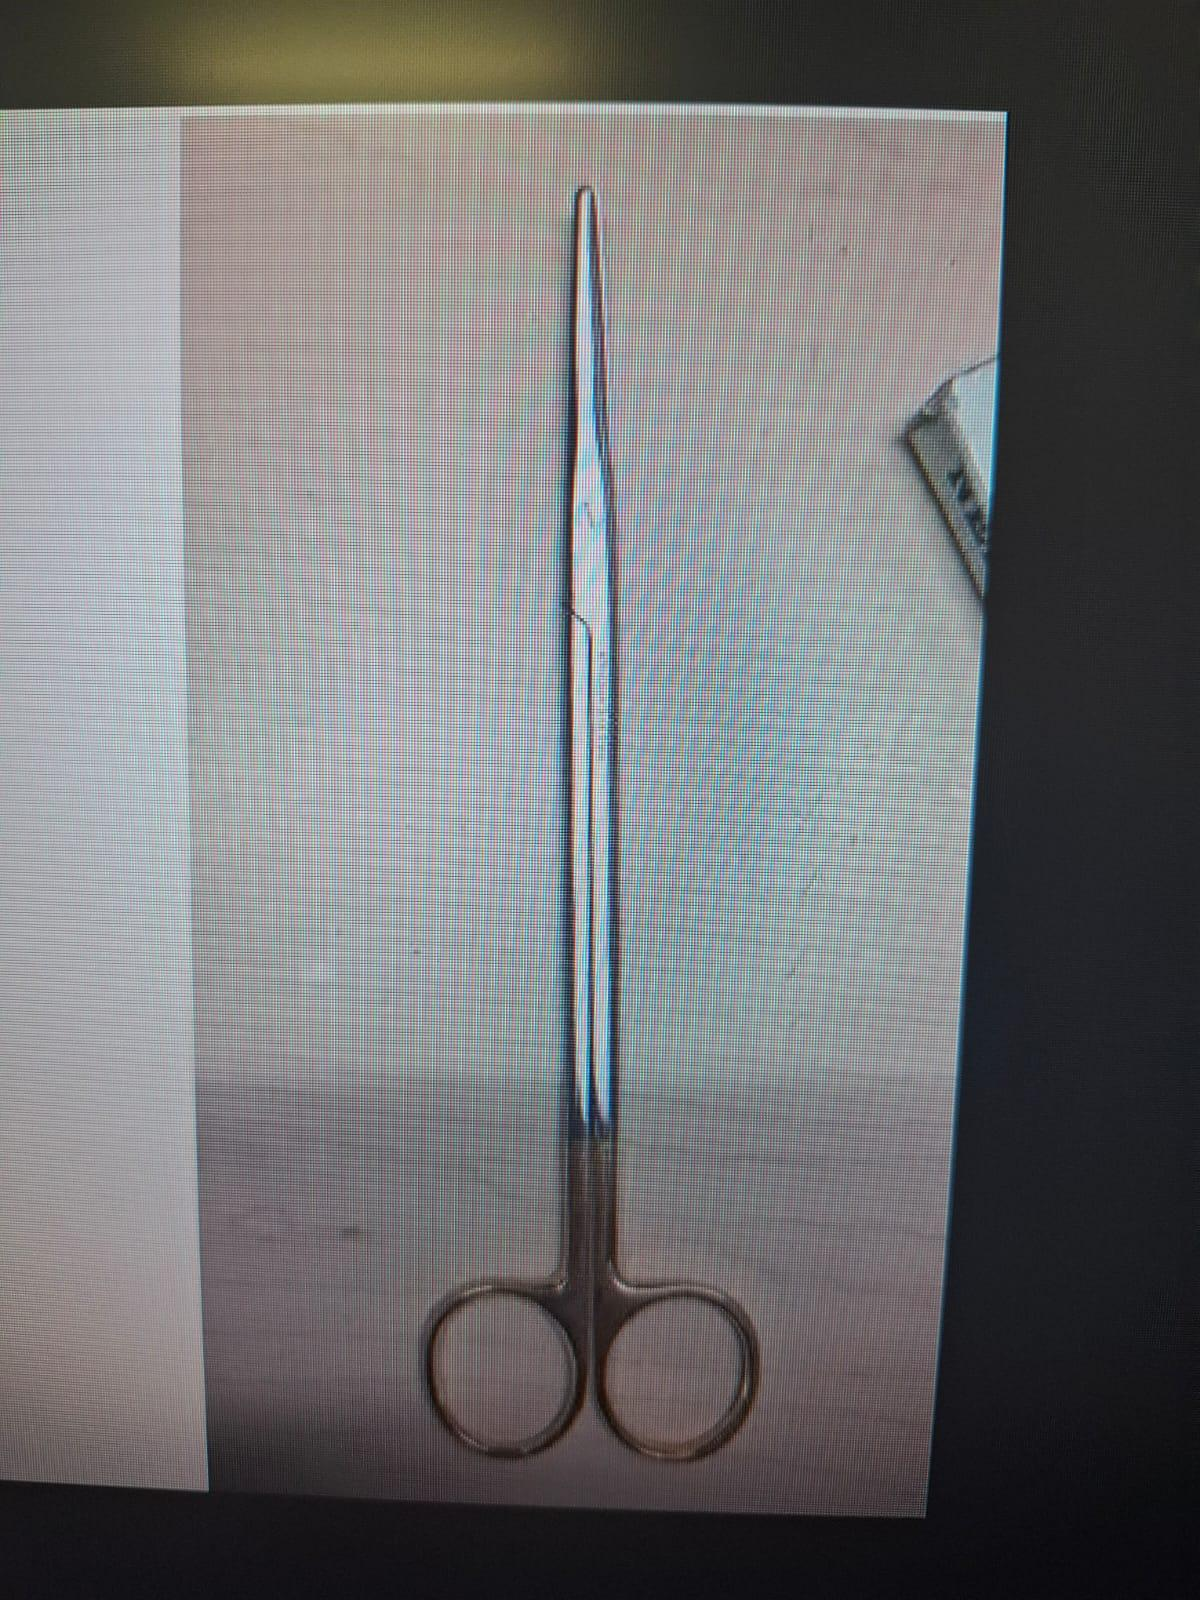Metzenbaum Sciccors: (407, 173, 785, 1468)
